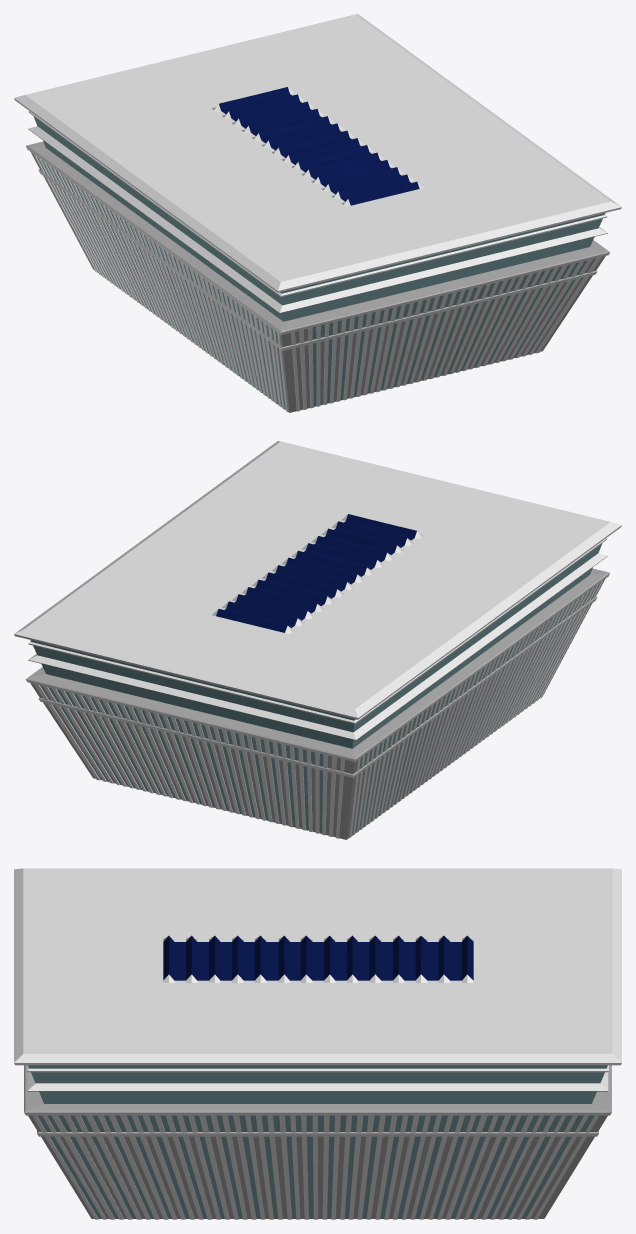
Rendered from AquaticsCenter(Swimming).fbx.
3 views of the same model, one above another, from view 1: azimuth 30°, elevation 25°; view 2: azimuth 150°, elevation 25°; view 3: azimuth 270°, elevation 25° (orthographic). The views are drawn at different scales.
Parts seen in each view (by area): view 1: AquaticsCenter; view 2: AquaticsCenter; view 3: AquaticsCenter.
Boxes of the visible parts, box(x1,y1,x2,y2) form: AquaticsCenter: box(14, 14, 621, 412); AquaticsCenter: box(14, 441, 621, 839); AquaticsCenter: box(14, 868, 621, 1219).
Size of the model in its own units: 26 by 12.14 by 34.5.
